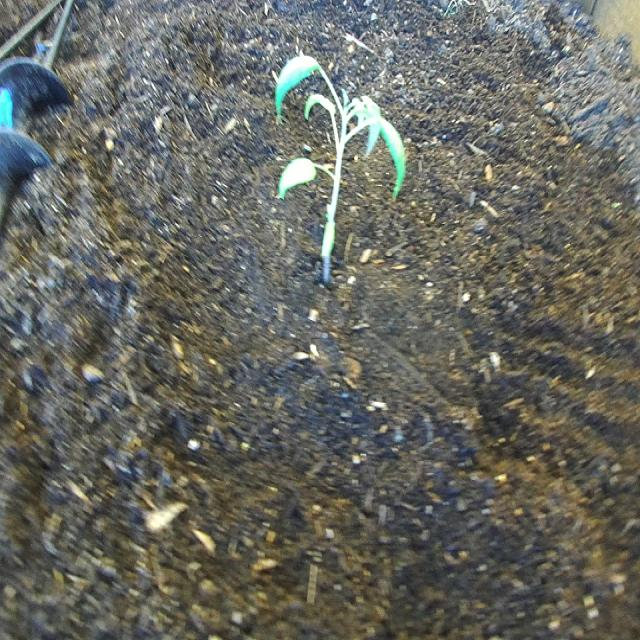Healthy: (256, 27, 425, 305)
